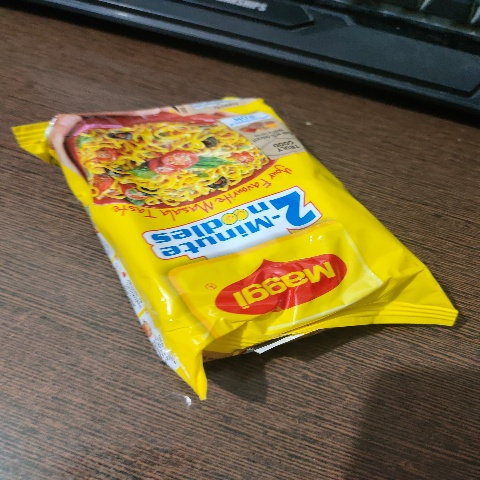maggi: (0, 50, 459, 419)
